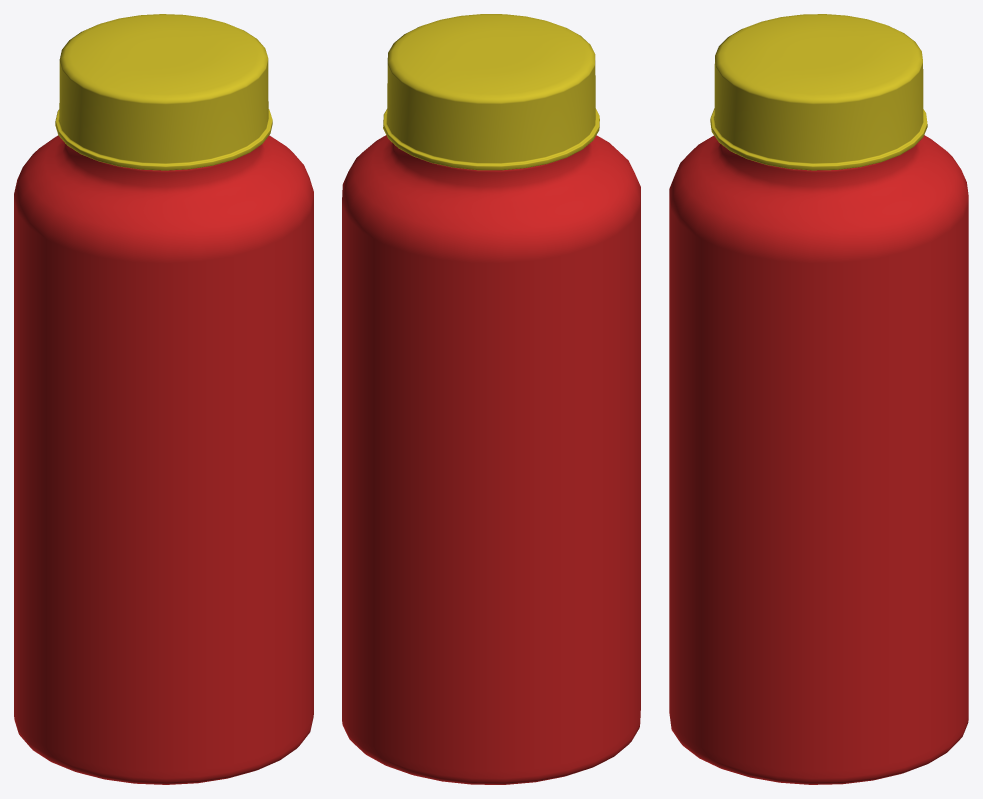
Rendered from red_sauce.fbx.
The picture shows the model from 3 angles, left to right: view 1: azimuth 30°, elevation 25°; view 2: azimuth 150°, elevation 25°; view 3: azimuth 270°, elevation 25°; orthographic projection.
Visible parts, largest first — view 1: 酱2; view 2: 酱2; view 3: 酱2.
Part boxes in pixels (box(x1,y1,x2,y2)): 酱2: box(14, 14, 313, 784); 酱2: box(342, 14, 640, 784); 酱2: box(669, 14, 968, 784).
Size of the model in its own units: 1.8 by 1.8 by 4.47.
